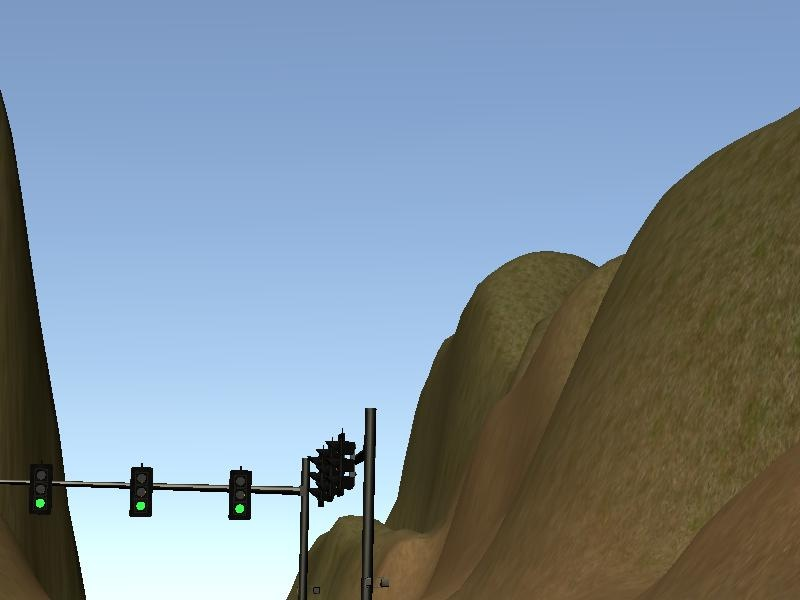GREEN: (131, 467, 152, 517), (229, 470, 250, 520), (31, 465, 51, 514)
